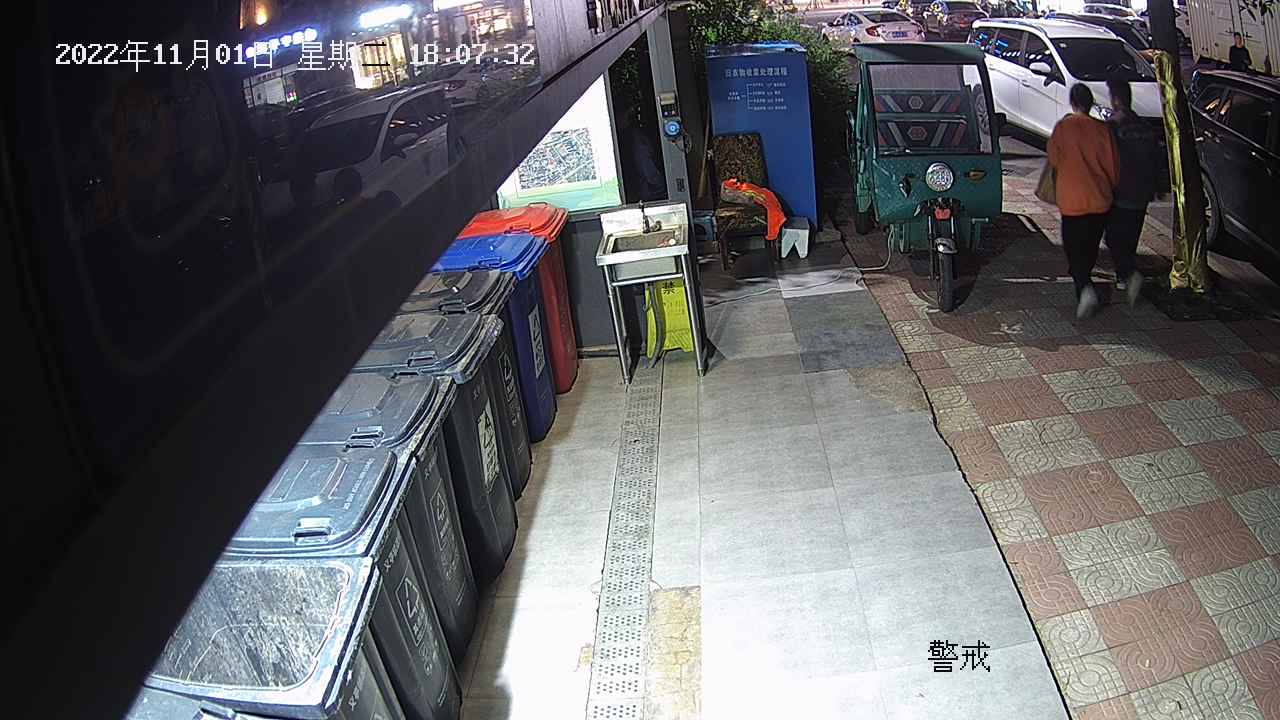person: (1045, 75, 1158, 323)
